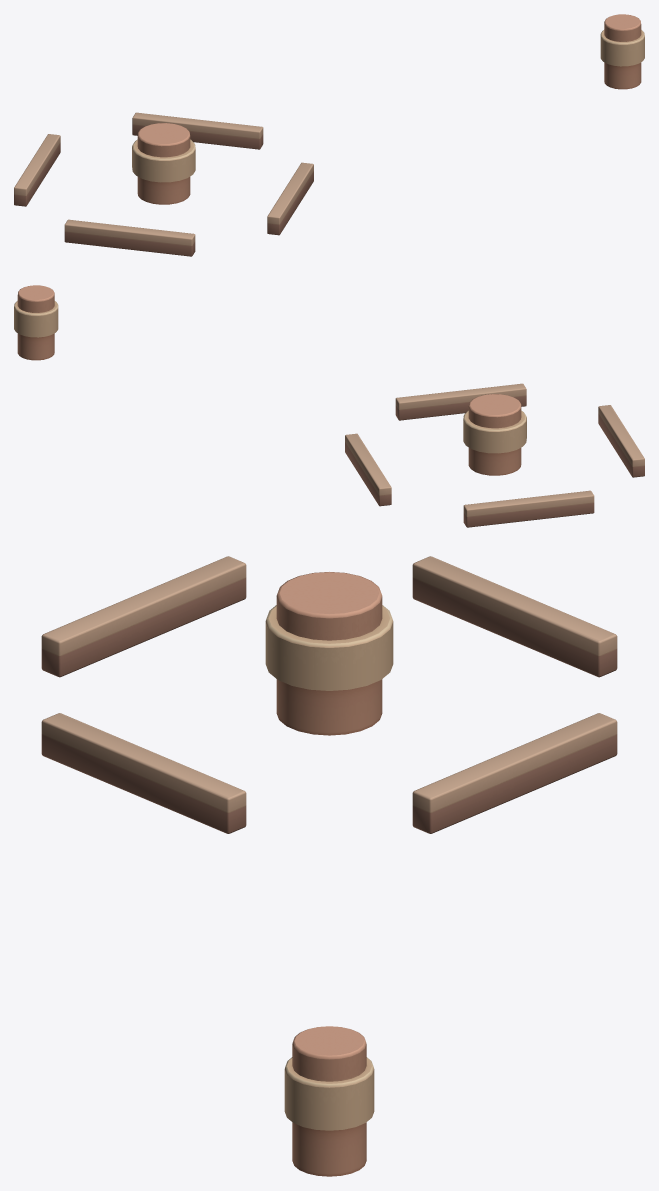
File: Props.fbx
3 views of the same model, one above another, from view 1: azimuth 30°, elevation 25°; view 2: azimuth 150°, elevation 25°; view 3: azimuth 270°, elevation 25° (orthographic). The views are drawn at different scales.
Parts seen in each view (by area): view 1: Cylinder, Box20-3_2 (1), Cylinder-2, Box20-3_2, Box20-3_2 (2), Box20-3_2 (3); view 2: Cylinder, Box20-3_2 (3), Cylinder-2, Box20-3_2 (2), Box20-3_2, Box20-3_2 (1); view 3: Cylinder, Cylinder-2, Box20-3_2, Box20-3_2 (2), Box20-3_2 (1), Box20-3_2 (3).
Part boxes in pixels (x1=…): Cylinder: x1=132, y1=123, x2=195, y2=204; Box20-3_2 (1): x1=64, y1=219, x2=195, y2=256; Cylinder-2: x1=600, y1=14, x2=644, y2=89; Box20-3_2: x1=132, y1=112, x2=263, y2=149; Box20-3_2 (2): x1=267, y1=162, x2=313, y2=235; Box20-3_2 (3): x1=14, y1=134, x2=60, y2=206; Cylinder: x1=463, y1=394, x2=526, y2=475; Box20-3_2 (3): x1=463, y1=490, x2=594, y2=527; Cylinder-2: x1=14, y1=285, x2=58, y2=360; Box20-3_2 (2): x1=395, y1=383, x2=526, y2=420; Box20-3_2: x1=345, y1=433, x2=391, y2=506; Box20-3_2 (1): x1=598, y1=405, x2=644, y2=477; Cylinder: x1=265, y1=572, x2=393, y2=735; Cylinder-2: x1=284, y1=1026, x2=374, y2=1176; Box20-3_2: x1=412, y1=713, x2=617, y2=833; Box20-3_2 (2): x1=41, y1=713, x2=246, y2=833; Box20-3_2 (1): x1=41, y1=556, x2=246, y2=677; Box20-3_2 (3): x1=412, y1=556, x2=617, y2=677.
Bounding box in the file's own units: 52.55 × 5 × 21.73.
